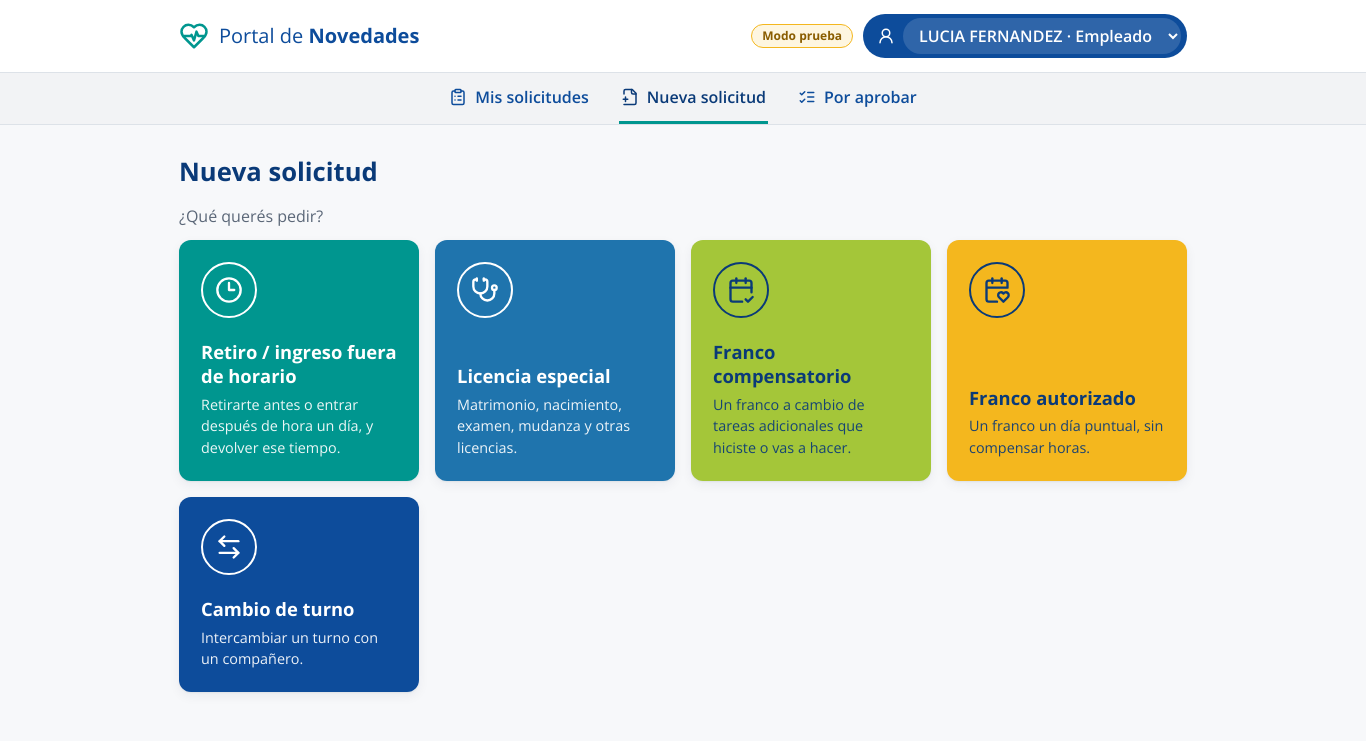
Test: Nueva solicitud › muestra los errores de validación del backend
This screenshot has width=1366, height=741.
Step 1. Click the button "Franco autorizado" → (1067, 360), box [947,240,1187,481]
(page scrolled)
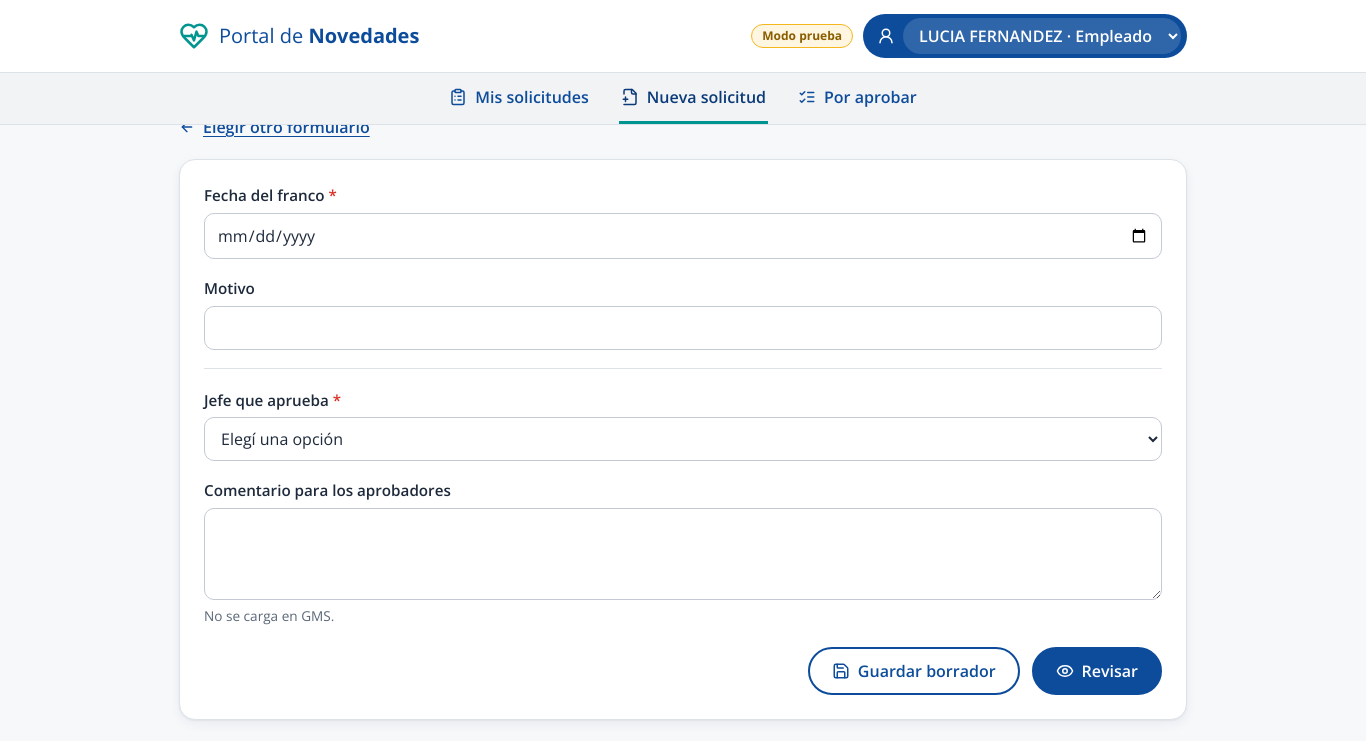
Step 2. Click the button "Revisar" → (1097, 671), box [1032,647,1162,695]
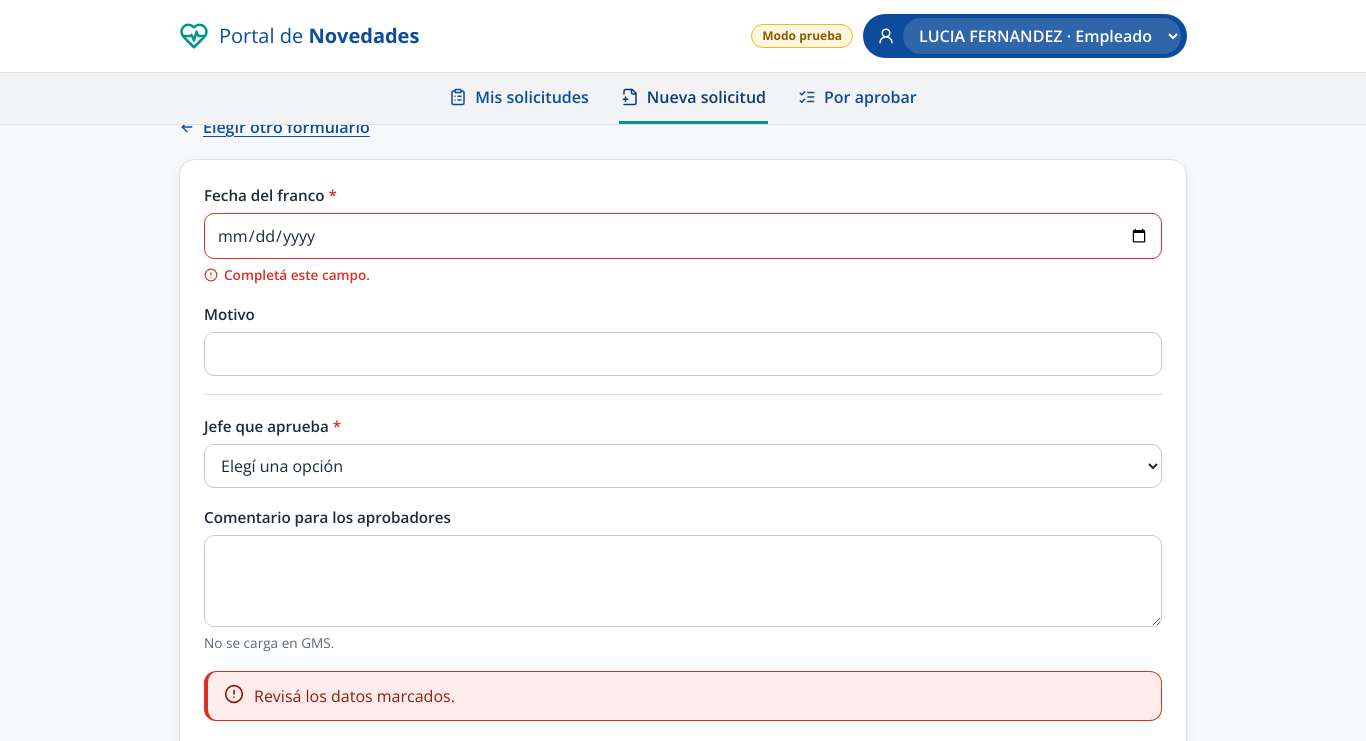
Expected: the text "Completá este campo." is shown, [204,265,370,284]
Expected: the text "Revisá los datos marcados." is shown, [254,684,455,708]
